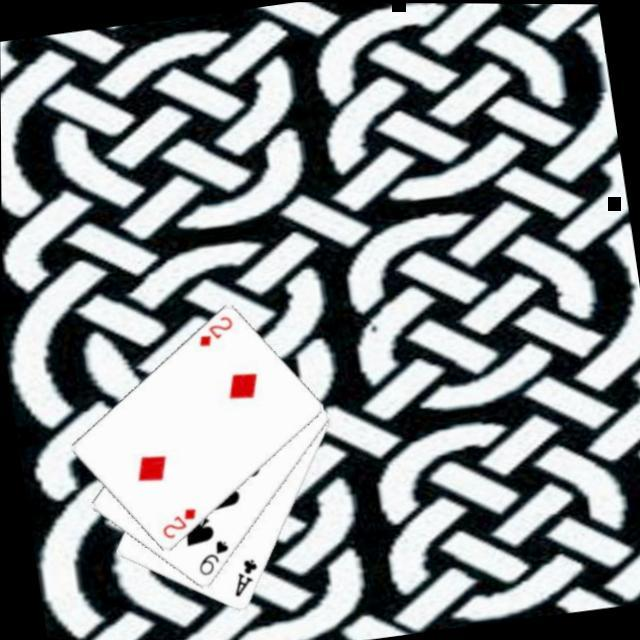2D: (190, 314, 236, 354), (154, 506, 200, 545)
9S: (190, 537, 233, 582)
AC: (224, 556, 262, 602)
